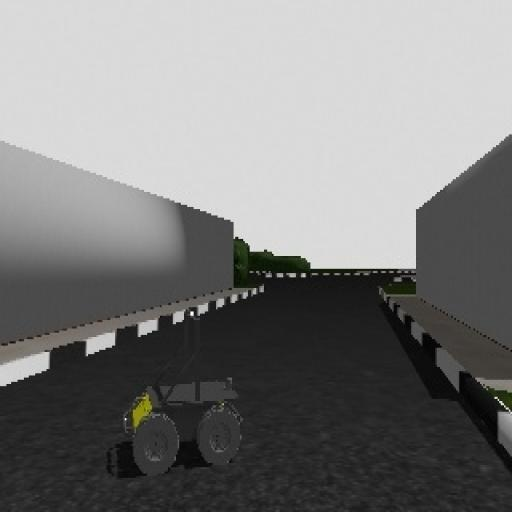huskya200: (109, 307, 254, 490)
